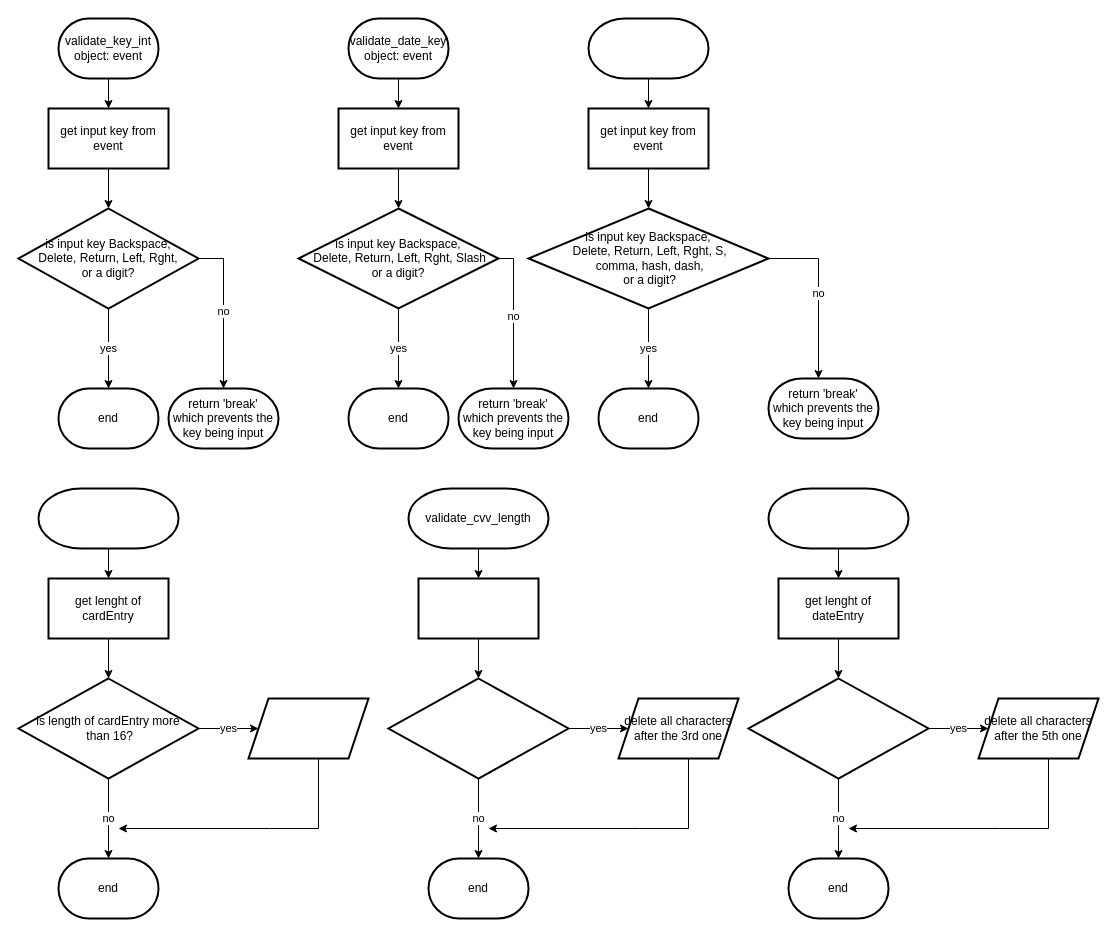
This 1116x936 diagram has some shape labels left out. The centre of each missing label's shape, as x and y in pixels:
delete all characters after the 16th one: pixel 308 728
get lenght of cvvEntry: pixel 478 608
is length of cvvEntry more than 3?: pixel 478 728
is length of cvvEntry more than 5?: pixel 838 728
validate_address_key object: event: pixel 648 48
validate_card_no_length: pixel 108 518
validate_date_length: pixel 838 518
